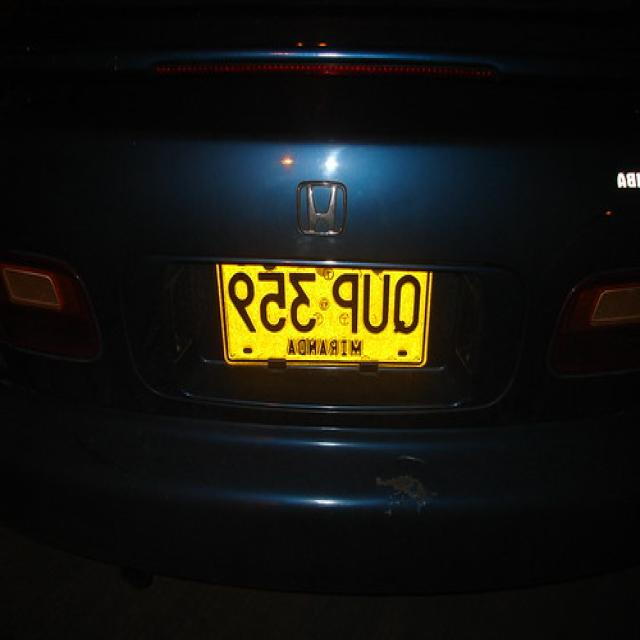placas: (227, 267, 427, 338)
